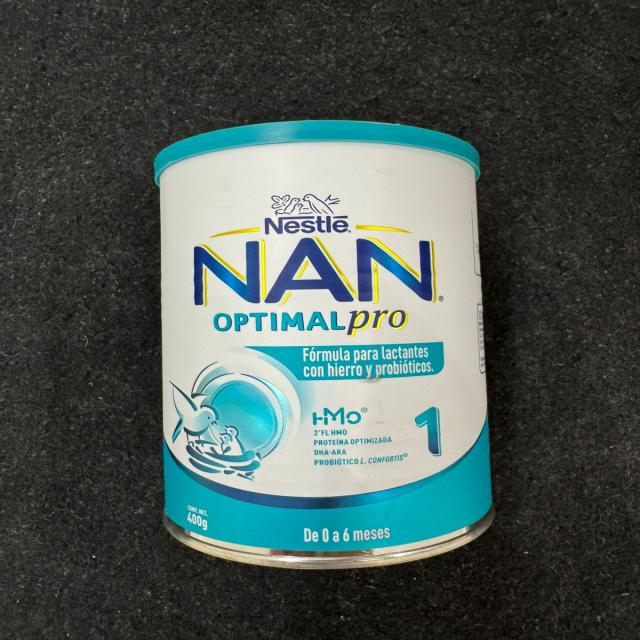NAN 1 OPTIPRO Formula Infantil 12x400gMX: (150, 117, 499, 572)
